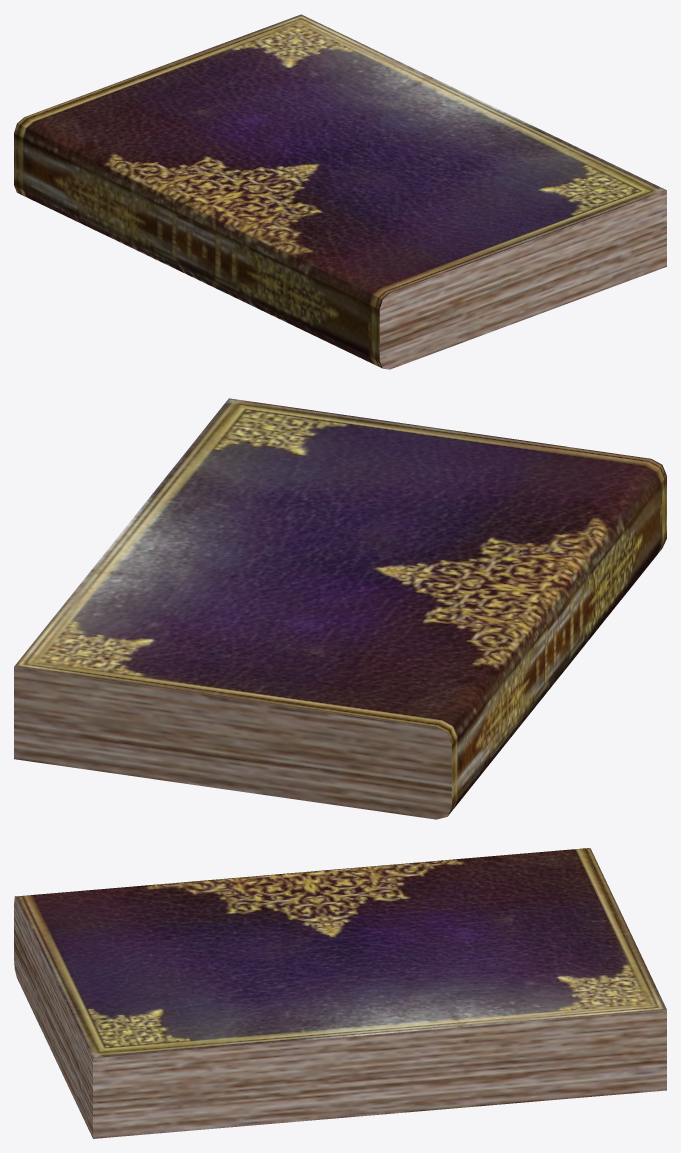
The model's file is book_purple.fbx.
3 views of the same model, one above another, from view 1: azimuth 30°, elevation 25°; view 2: azimuth 150°, elevation 25°; view 3: azimuth 270°, elevation 25° (orthographic). The views are drawn at different scales.
Parts seen in each view (by area): view 1: obj_book_purp; view 2: obj_book_purp; view 3: obj_book_purp.
Part boxes in pixels (x1,y1,x2,y2): obj_book_purp: [14, 14, 666, 369]; obj_book_purp: [14, 398, 666, 819]; obj_book_purp: [14, 848, 666, 1138].
Bounding box in the file's own units: 56.51 × 9.86 × 72.28.
Materials: 1 (1 with a texture image).
